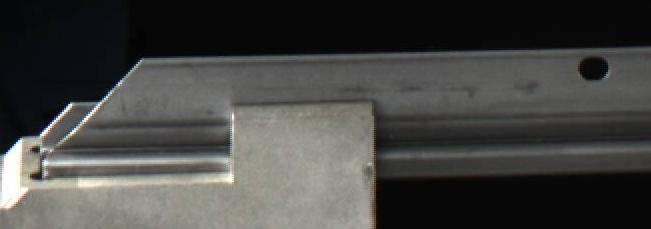cut: (30, 51, 201, 180)
holes: (576, 55, 611, 81)
